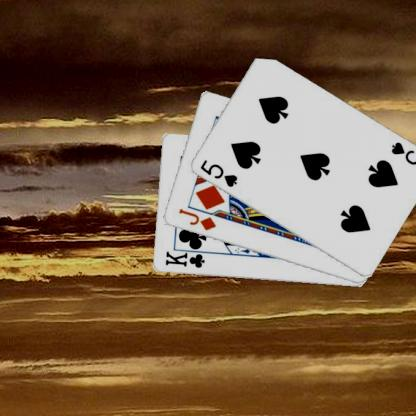5S: (197, 157, 239, 189), (388, 139, 416, 171)
JD: (176, 206, 217, 233)
KC: (162, 245, 210, 270)
